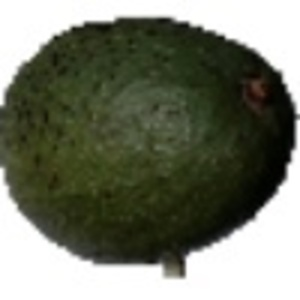abacate: (2, 14, 295, 264)
